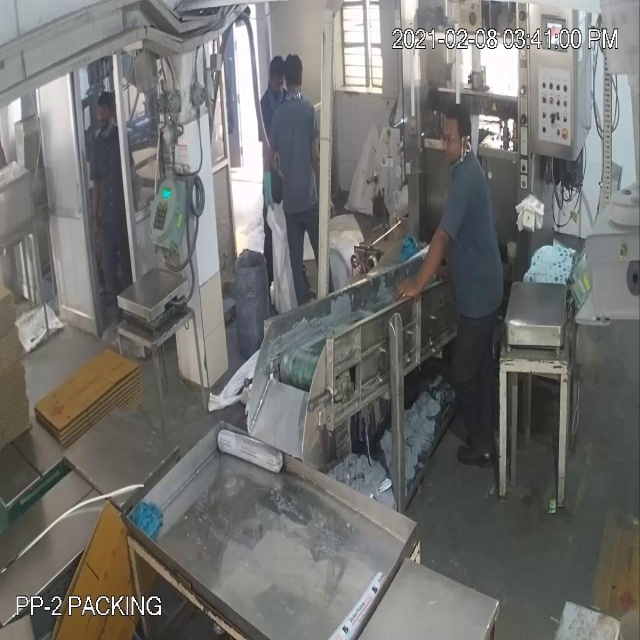Sin_guantes: (393, 231, 453, 311)
